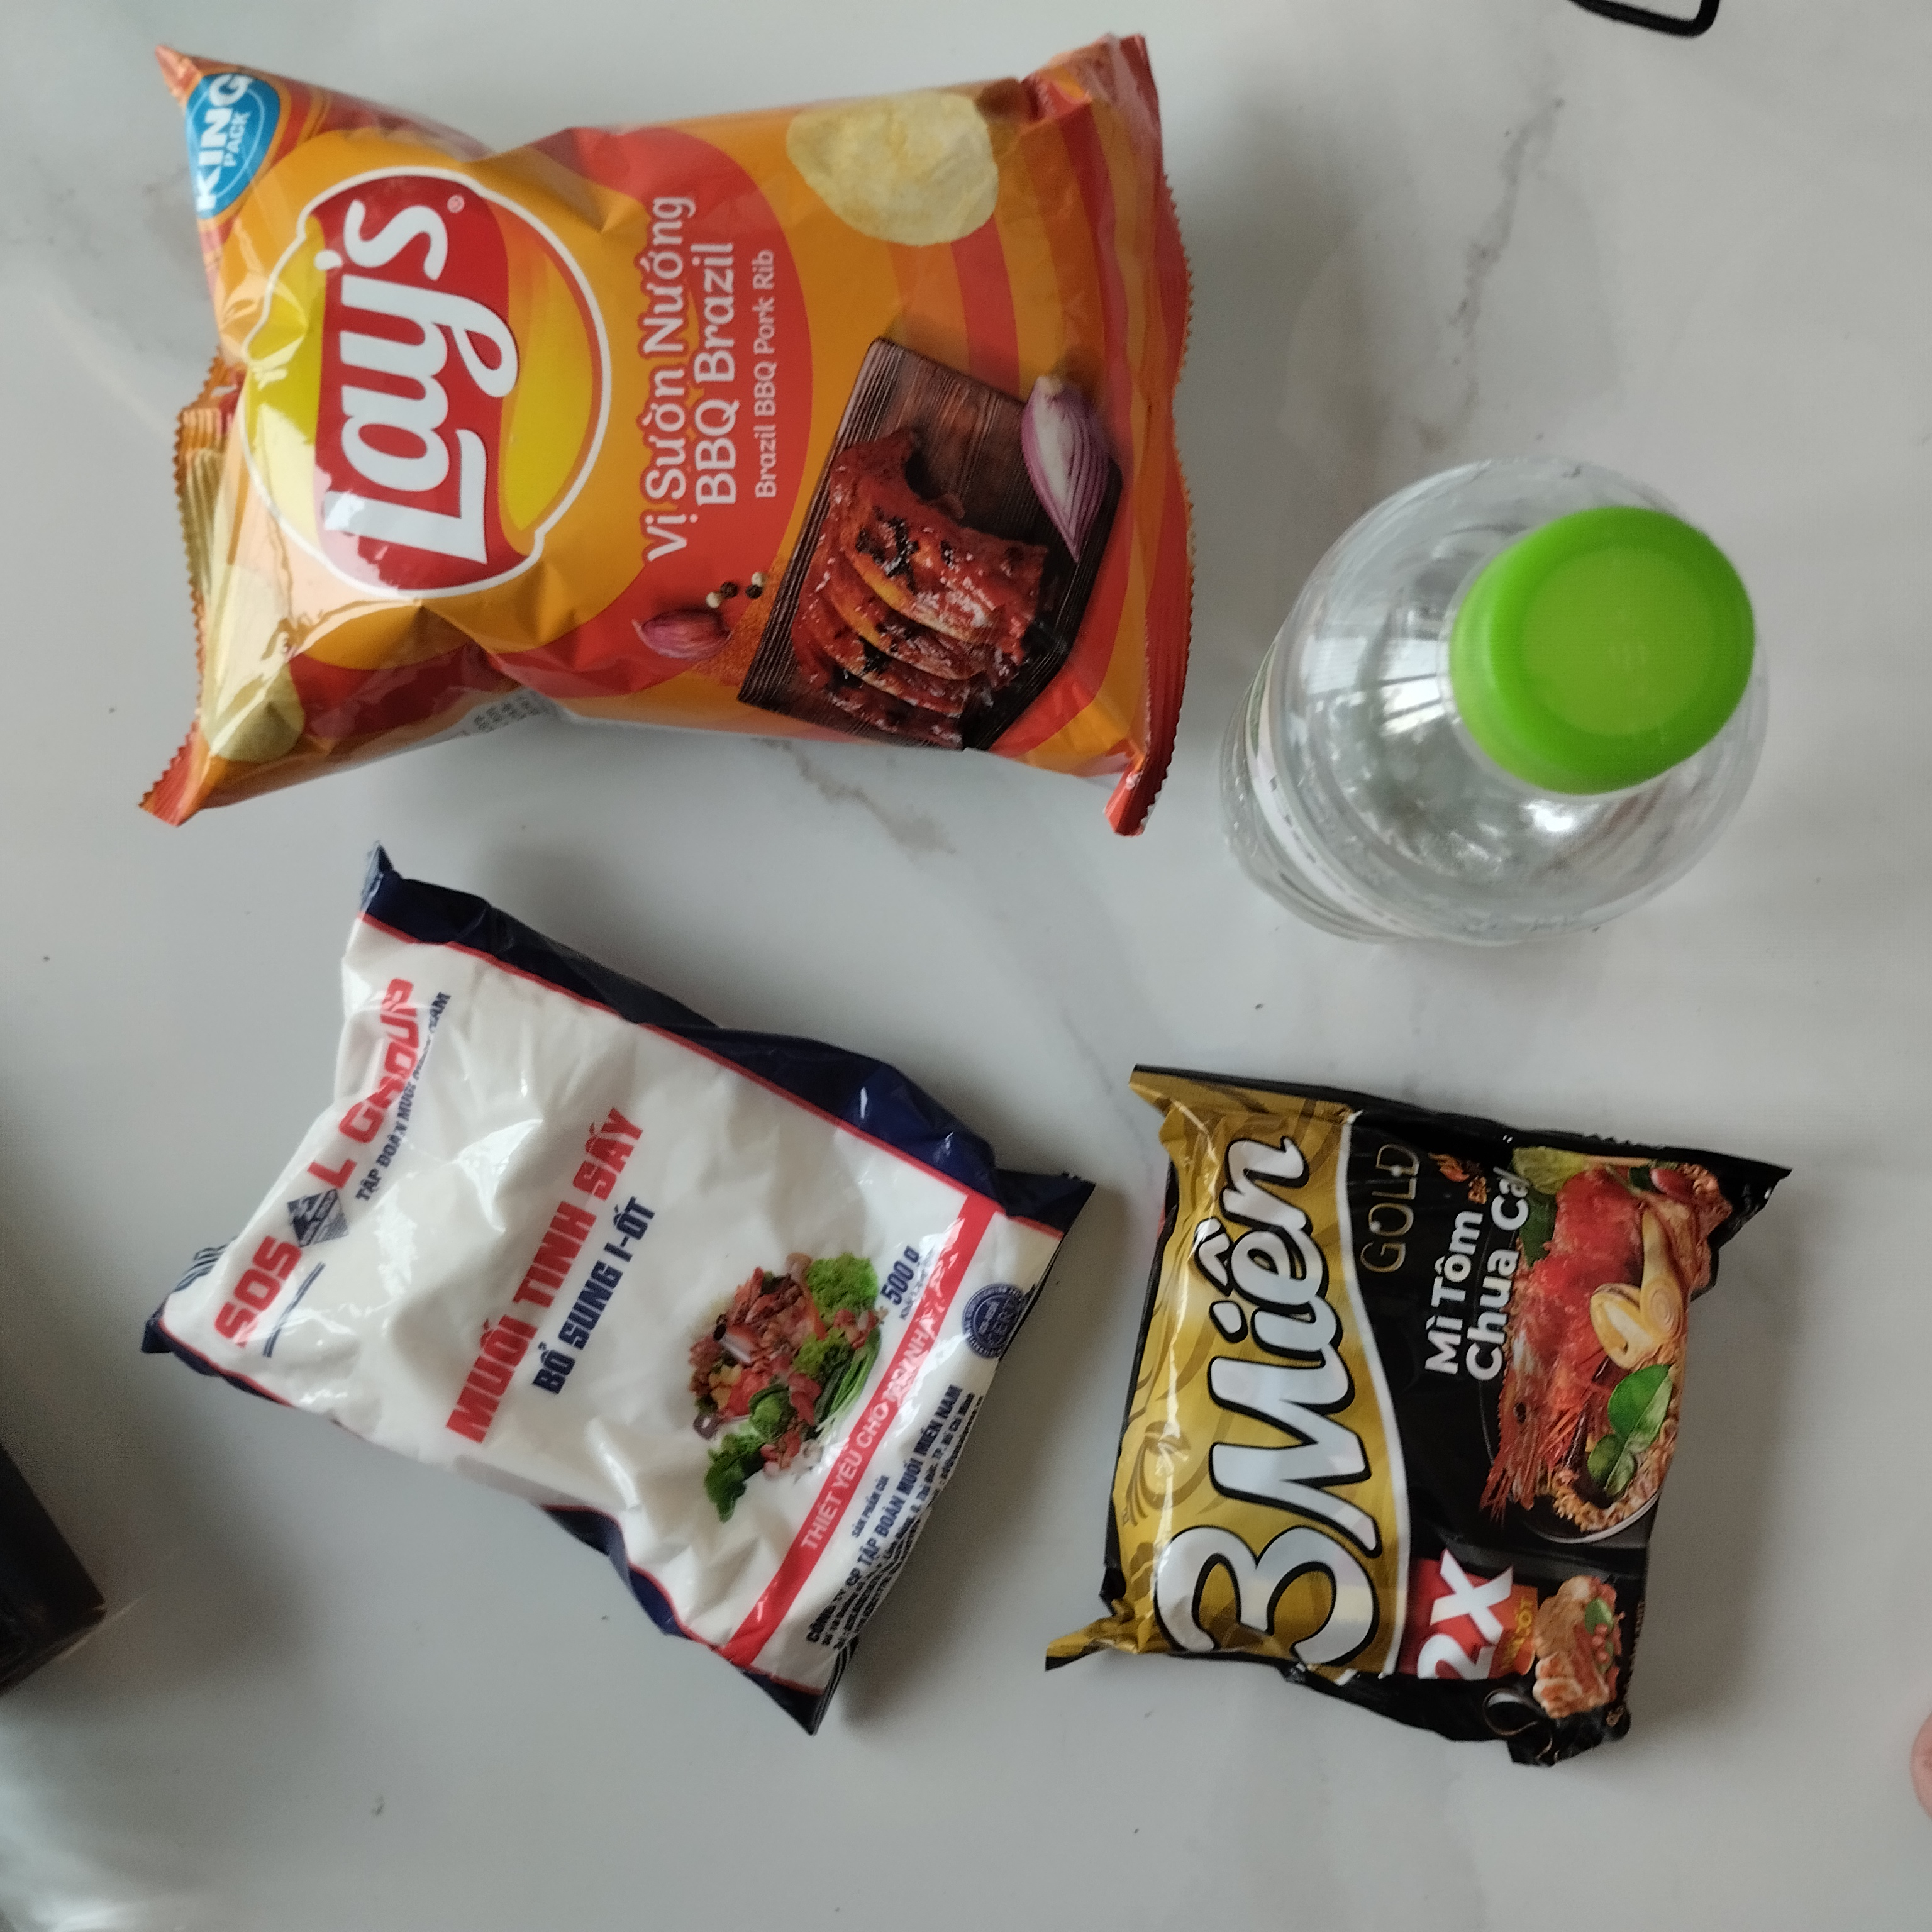3mien: (1039, 1044, 1792, 1762)
Dasani: (1223, 444, 1775, 954)
Lays: (127, 37, 1217, 837)
Salt: (127, 828, 1095, 1730)
